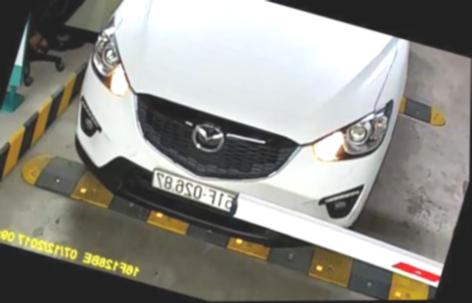License_Plate: (147, 167, 237, 220)
